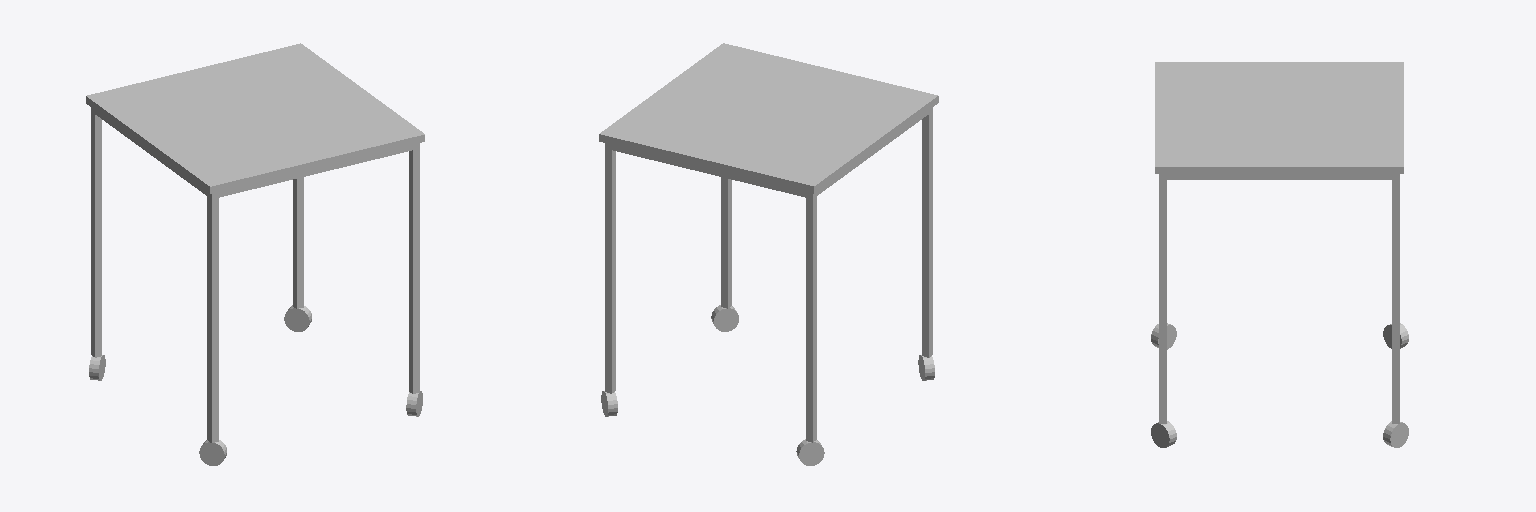
The model's file is table_web.obj.
3 views of the same model, side by side, from view 1: azimuth 30°, elevation 25°; view 2: azimuth 150°, elevation 25°; view 3: azimuth 270°, elevation 25° (orthographic).
Visible parts, largest first — view 1: pCube1, table pCube5, table pCube4, pCube2 table, table pCube3, table pCube8, wheel, wheel2; view 2: pCube1, pCube2 table, table pCube3, table pCube5, table pCube4, table pCube9, wheel1, wheel3; view 3: pCube1, table pCube4, table pCube3, table pCube7, wheel3, wheel.
Boxes of the visible parts, <box> form: pCube1: <box>86,43,424,193</box>; table pCube5: <box>207,192,218,442</box>; table pCube4: <box>409,143,419,393</box>; pCube2 table: <box>91,107,101,357</box>; table pCube3: <box>293,177,303,308</box>; table pCube8: <box>219,145,412,197</box>; wheel: <box>284,305,311,331</box>; wheel2: <box>199,440,226,465</box>; pCube1: <box>599,43,938,193</box>; pCube2 table: <box>806,192,816,442</box>; table pCube3: <box>605,143,615,393</box>; table pCube5: <box>922,107,932,357</box>; table pCube4: <box>721,177,731,308</box>; table pCube9: <box>608,144,806,197</box>; wheel1: <box>796,439,824,465</box>; wheel3: <box>711,305,738,331</box>; pCube1: <box>1155,62,1403,173</box>; table pCube4: <box>1159,174,1166,423</box>; table pCube3: <box>1392,174,1399,423</box>; table pCube7: <box>1165,174,1394,179</box>; wheel3: <box>1151,421,1176,447</box>; wheel: <box>1383,421,1408,447</box>.
Size of the model in its own units: 63.4 by 76.43 by 63.32.